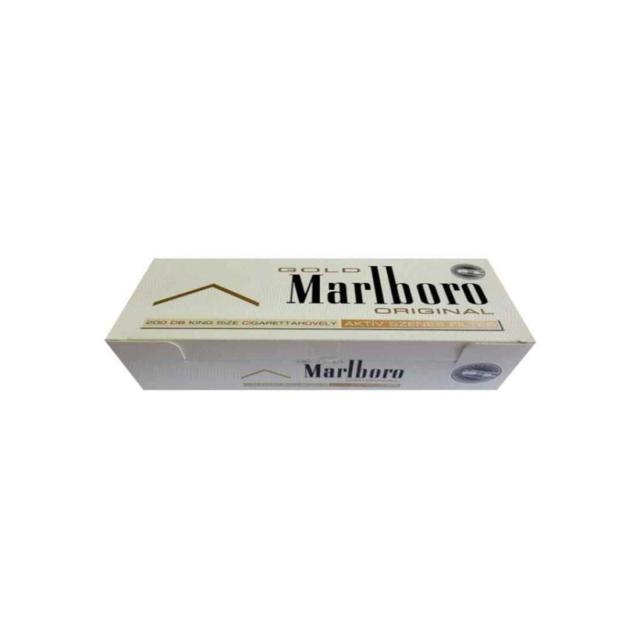marlboro: (102, 253, 541, 396)
